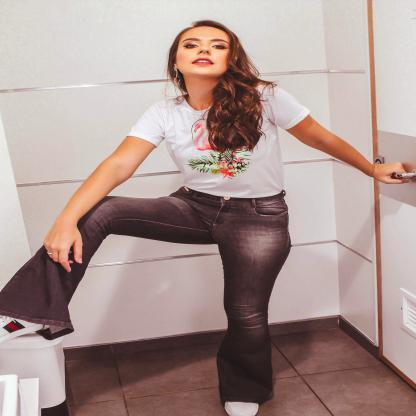Eye: (210, 42, 228, 51), (182, 42, 200, 50)
Mouth: (190, 56, 216, 68)
Nose: (198, 43, 210, 56)
